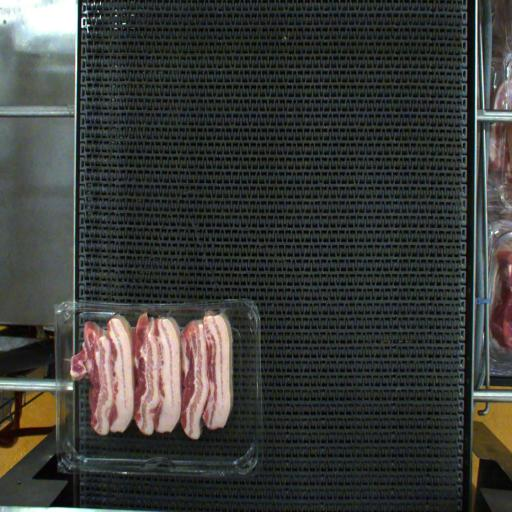packaging-error: (108, 301, 238, 332)
